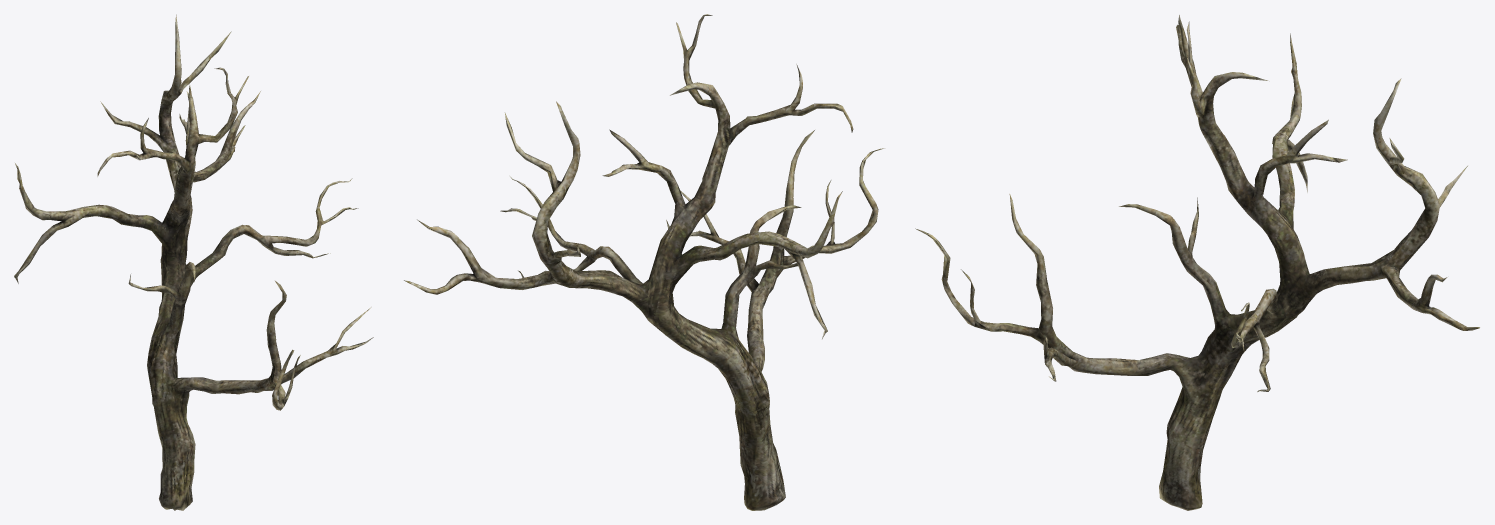
The model's file is DryTreeT3_branches_5_SM.fbx.
3 views of the same model, side by side, from view 1: azimuth 30°, elevation 25°; view 2: azimuth 150°, elevation 25°; view 3: azimuth 270°, elevation 25° (orthographic). The views are drawn at different scales.
Parts seen in each view (by area): view 1: DryTreeT3_branches_5_SM; view 2: DryTreeT3_branches_5_SM; view 3: DryTreeT3_branches_5_SM.
Part boxes in pixels (<box>): DryTreeT3_branches_5_SM: <box>14,14,373,510</box>; DryTreeT3_branches_5_SM: <box>404,14,884,510</box>; DryTreeT3_branches_5_SM: <box>915,15,1479,510</box>.
Size of the model in its own units: 601 by 757 by 761.
